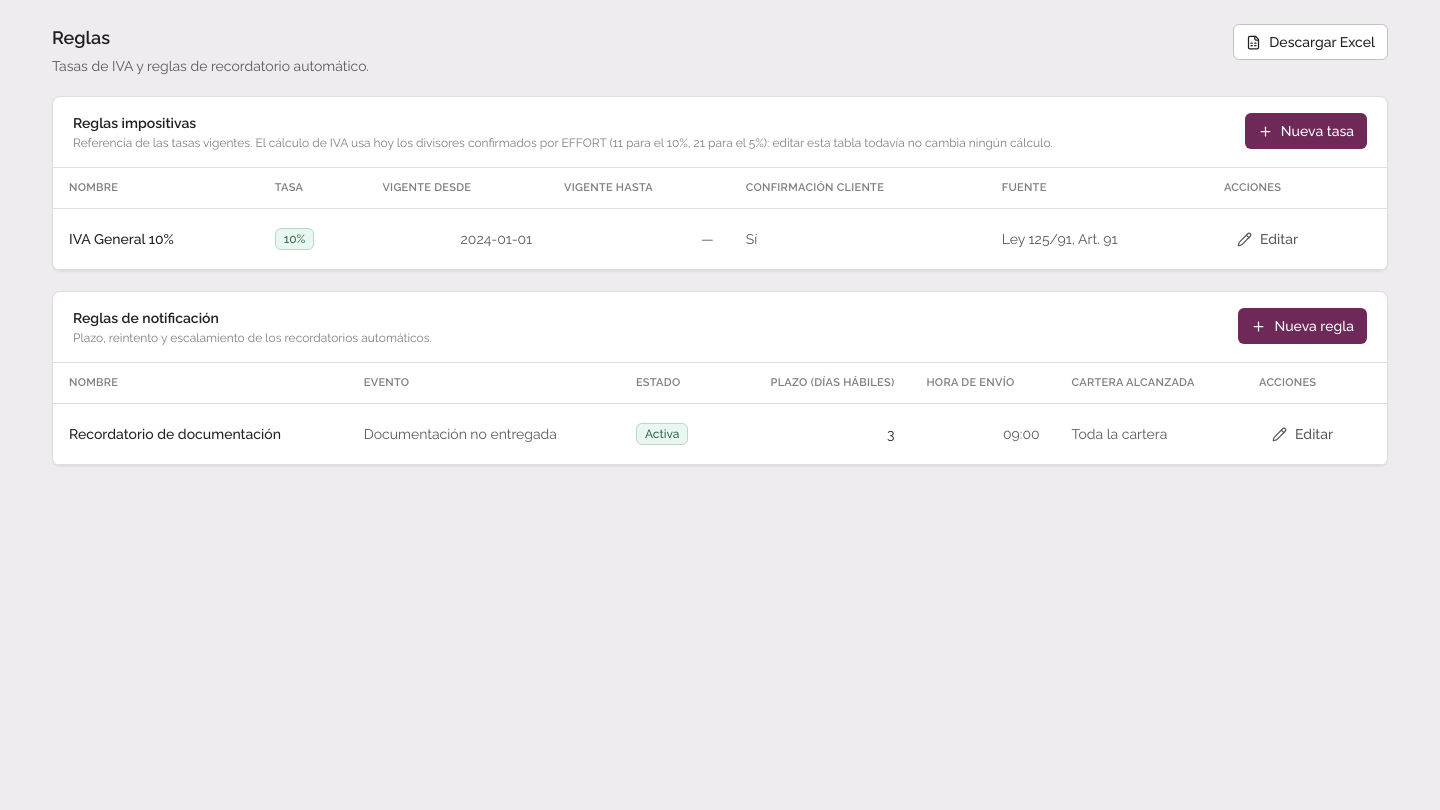
Test: pantalla de reglas › dirección da de alta una regla impositiva nueva
Expected: the text "IVA General 10%" is shown, [53,208,259,270]
Click the button "Nueva tasa" at (1306, 131), box [1245,113,1367,149]
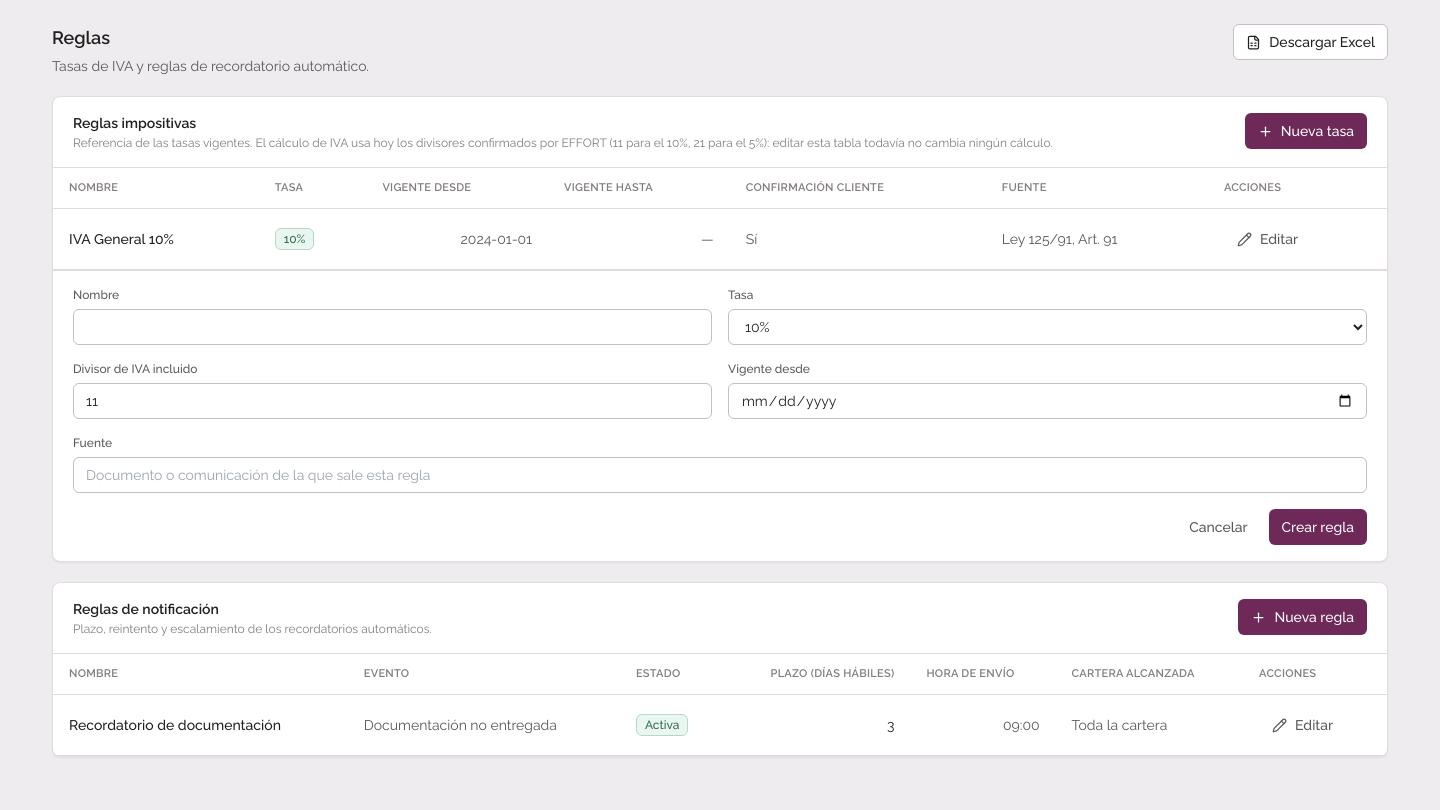
Type "IVA General 5%" into the field labelled "Nombre" at (392, 327), box [73,309,712,345]
Select "5%" in the dropdown labelled "Tasa" at (1048, 327), box [728,309,1367,345]
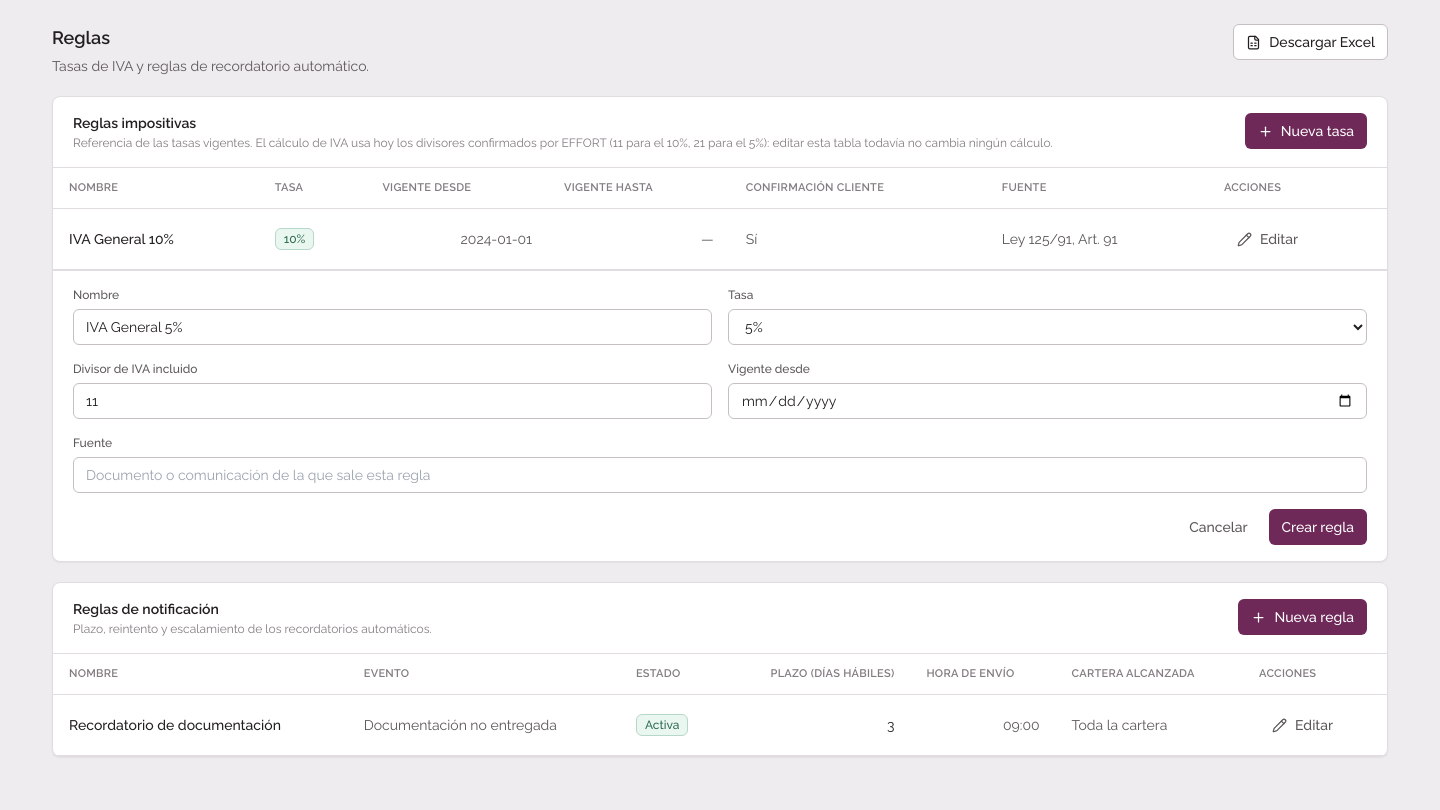
Replace the text in the number field labelled "Divisor de IVA incluido" with "21" at (392, 401), box [73,383,712,419]
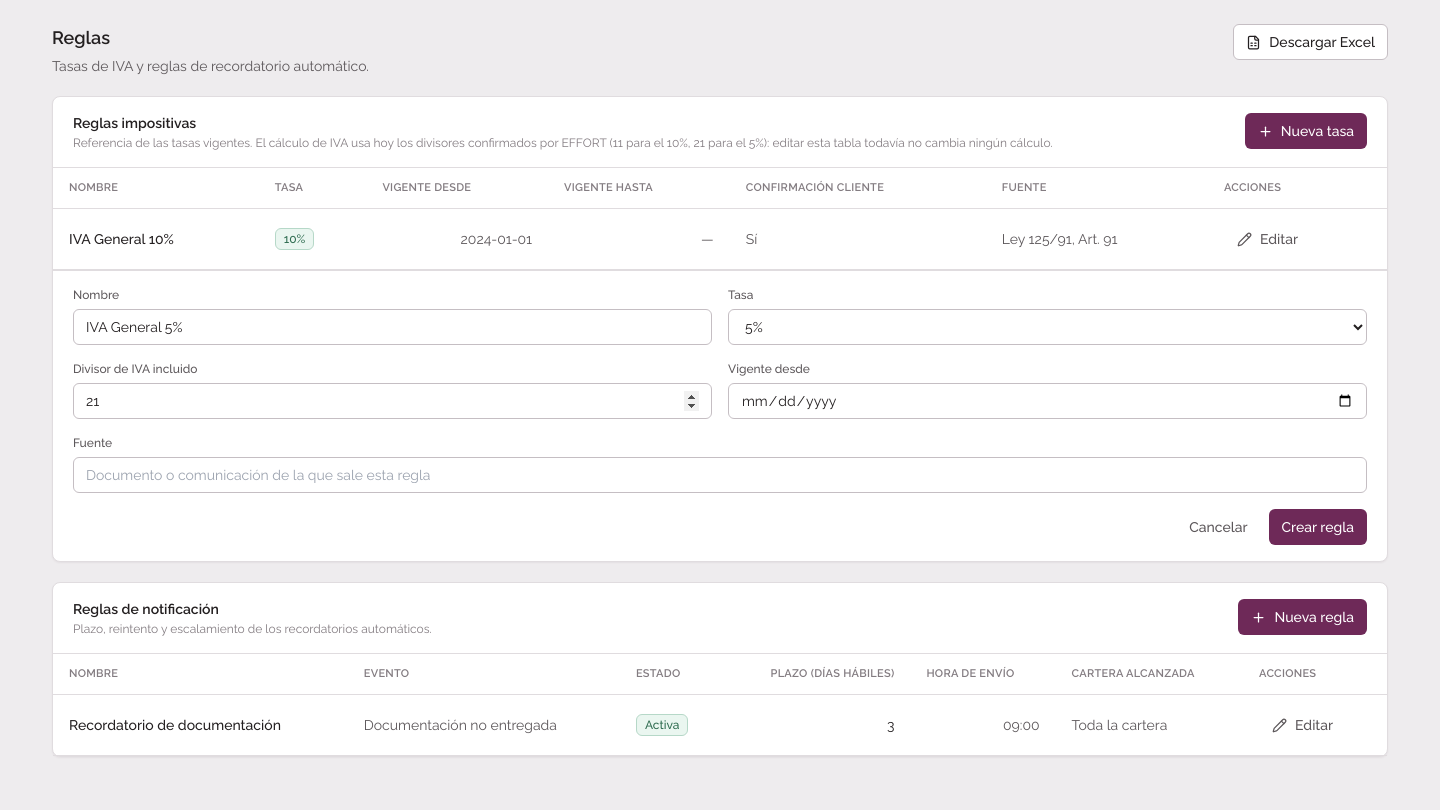
Type "2026-01-01" into the date field labelled "Vigente desde" at (1048, 401), box [728,383,1367,419]
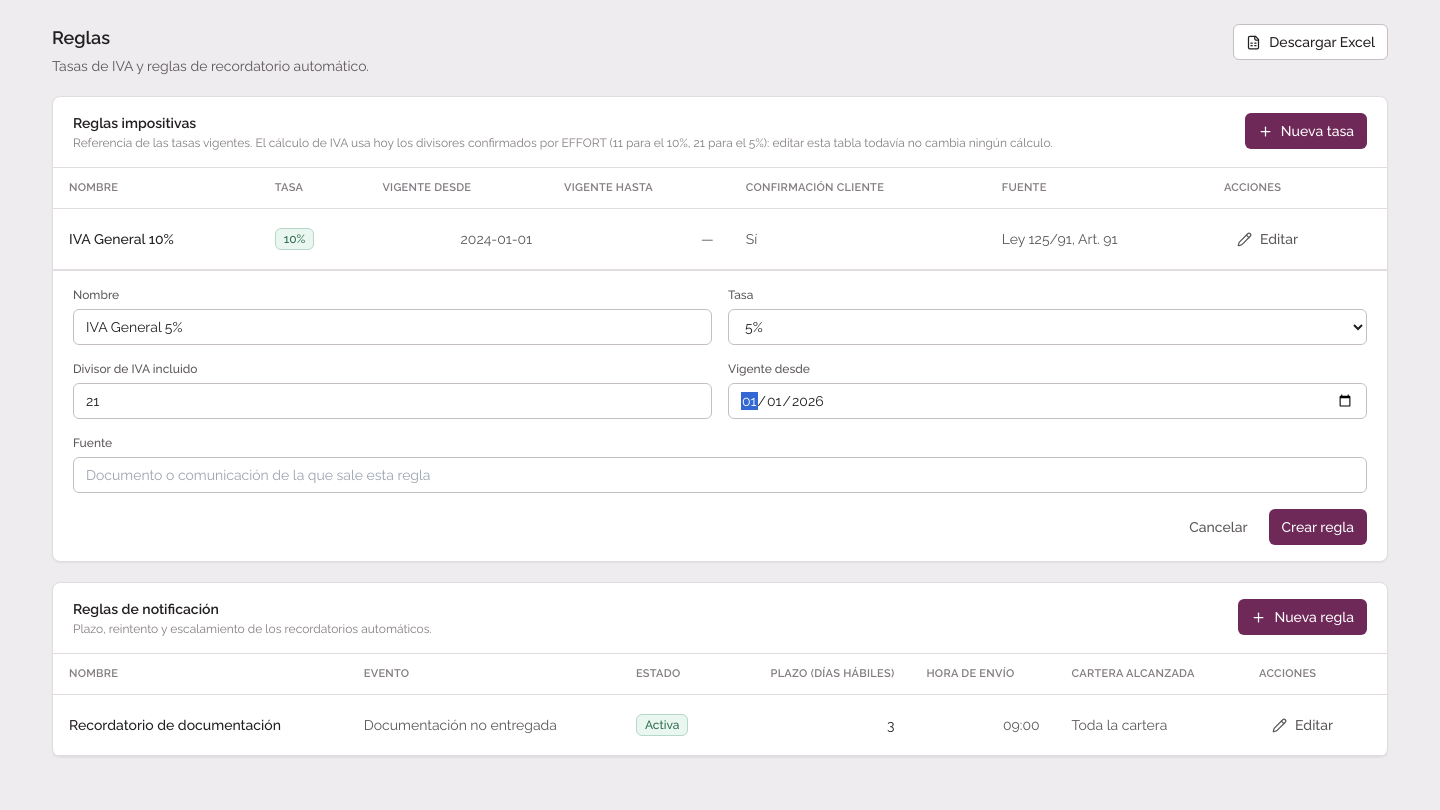
Type "Ley 125/91, Art. 91, canasta básica" into the field labelled "Fuente" at (720, 475), box [73,457,1367,493]
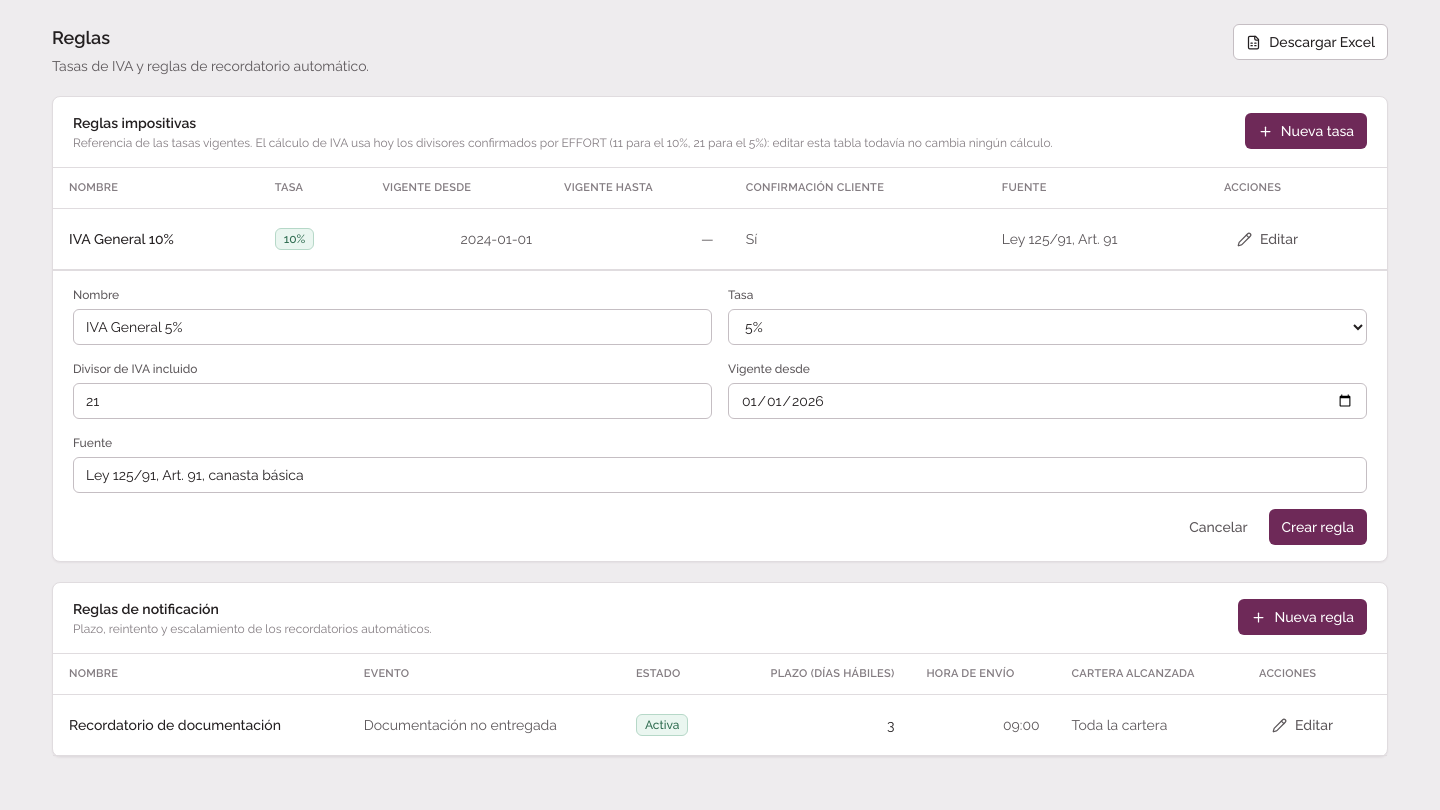
Click the button "Crear regla" at (1318, 527), box [1268,509,1367,545]
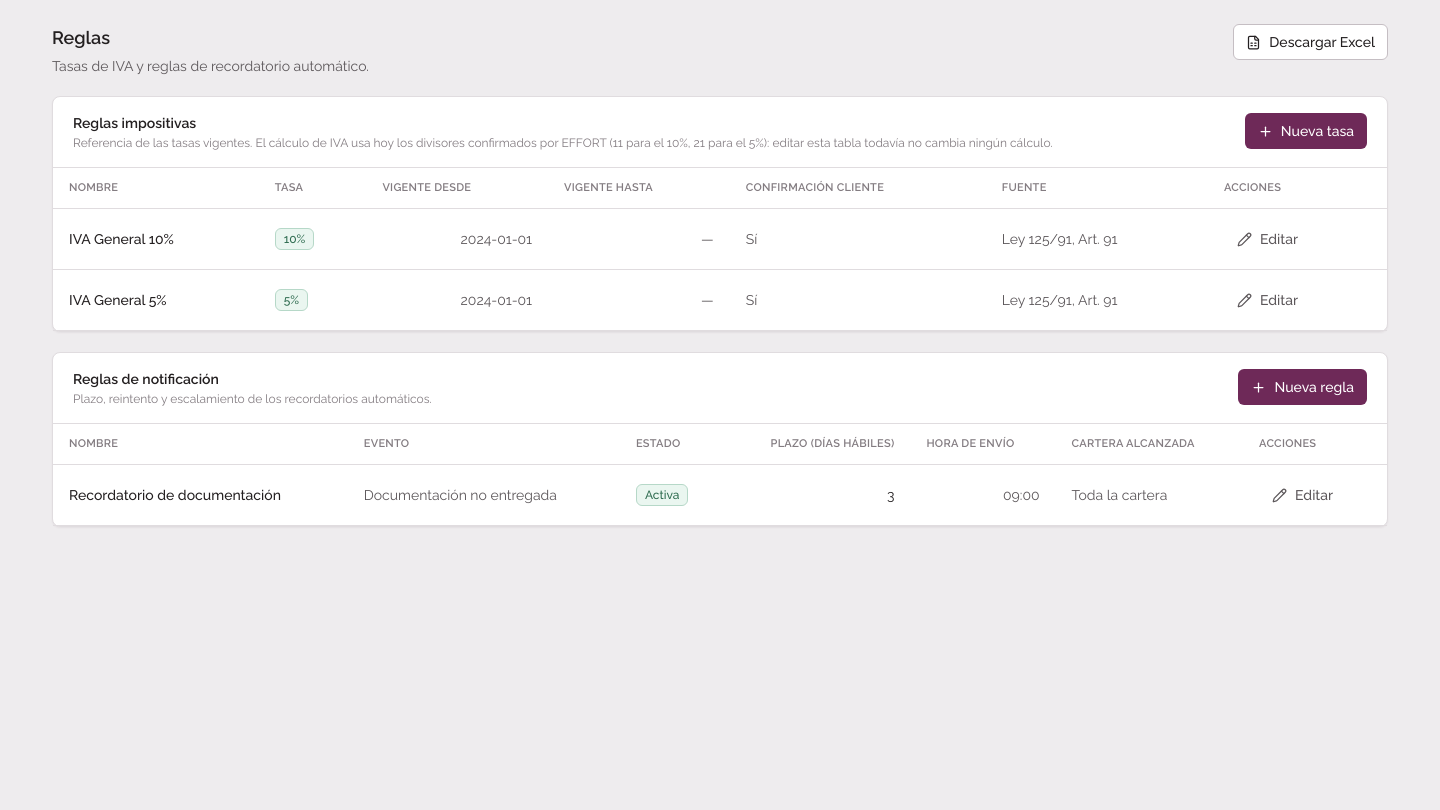
Result: the text "IVA General 5%" is shown at [53,270,259,330]
